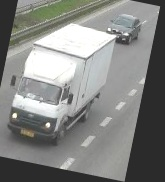car: (104, 10, 145, 48)
